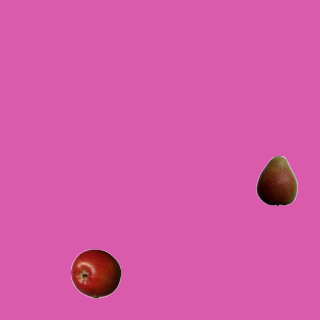Apple Braeburn: (70, 248, 120, 298)
Pear Forelle: (251, 155, 301, 205)
